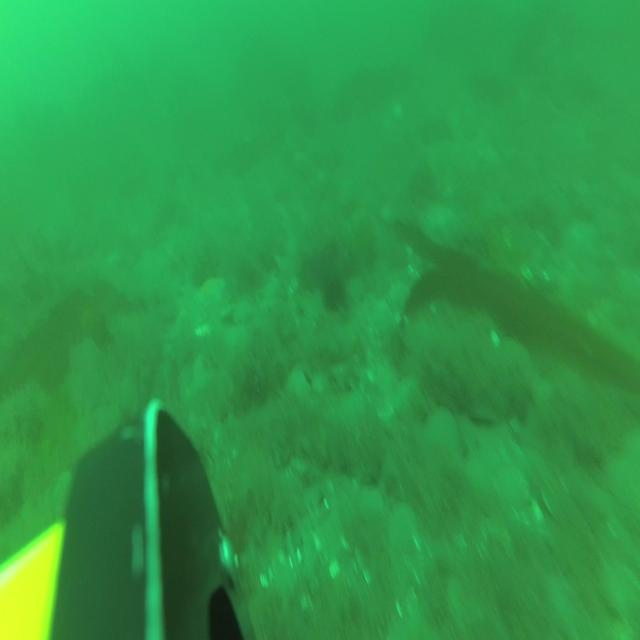echinus: (322, 272, 349, 314)
scallop: (426, 402, 456, 458), (389, 501, 418, 555)
starfish: (197, 272, 227, 305)
